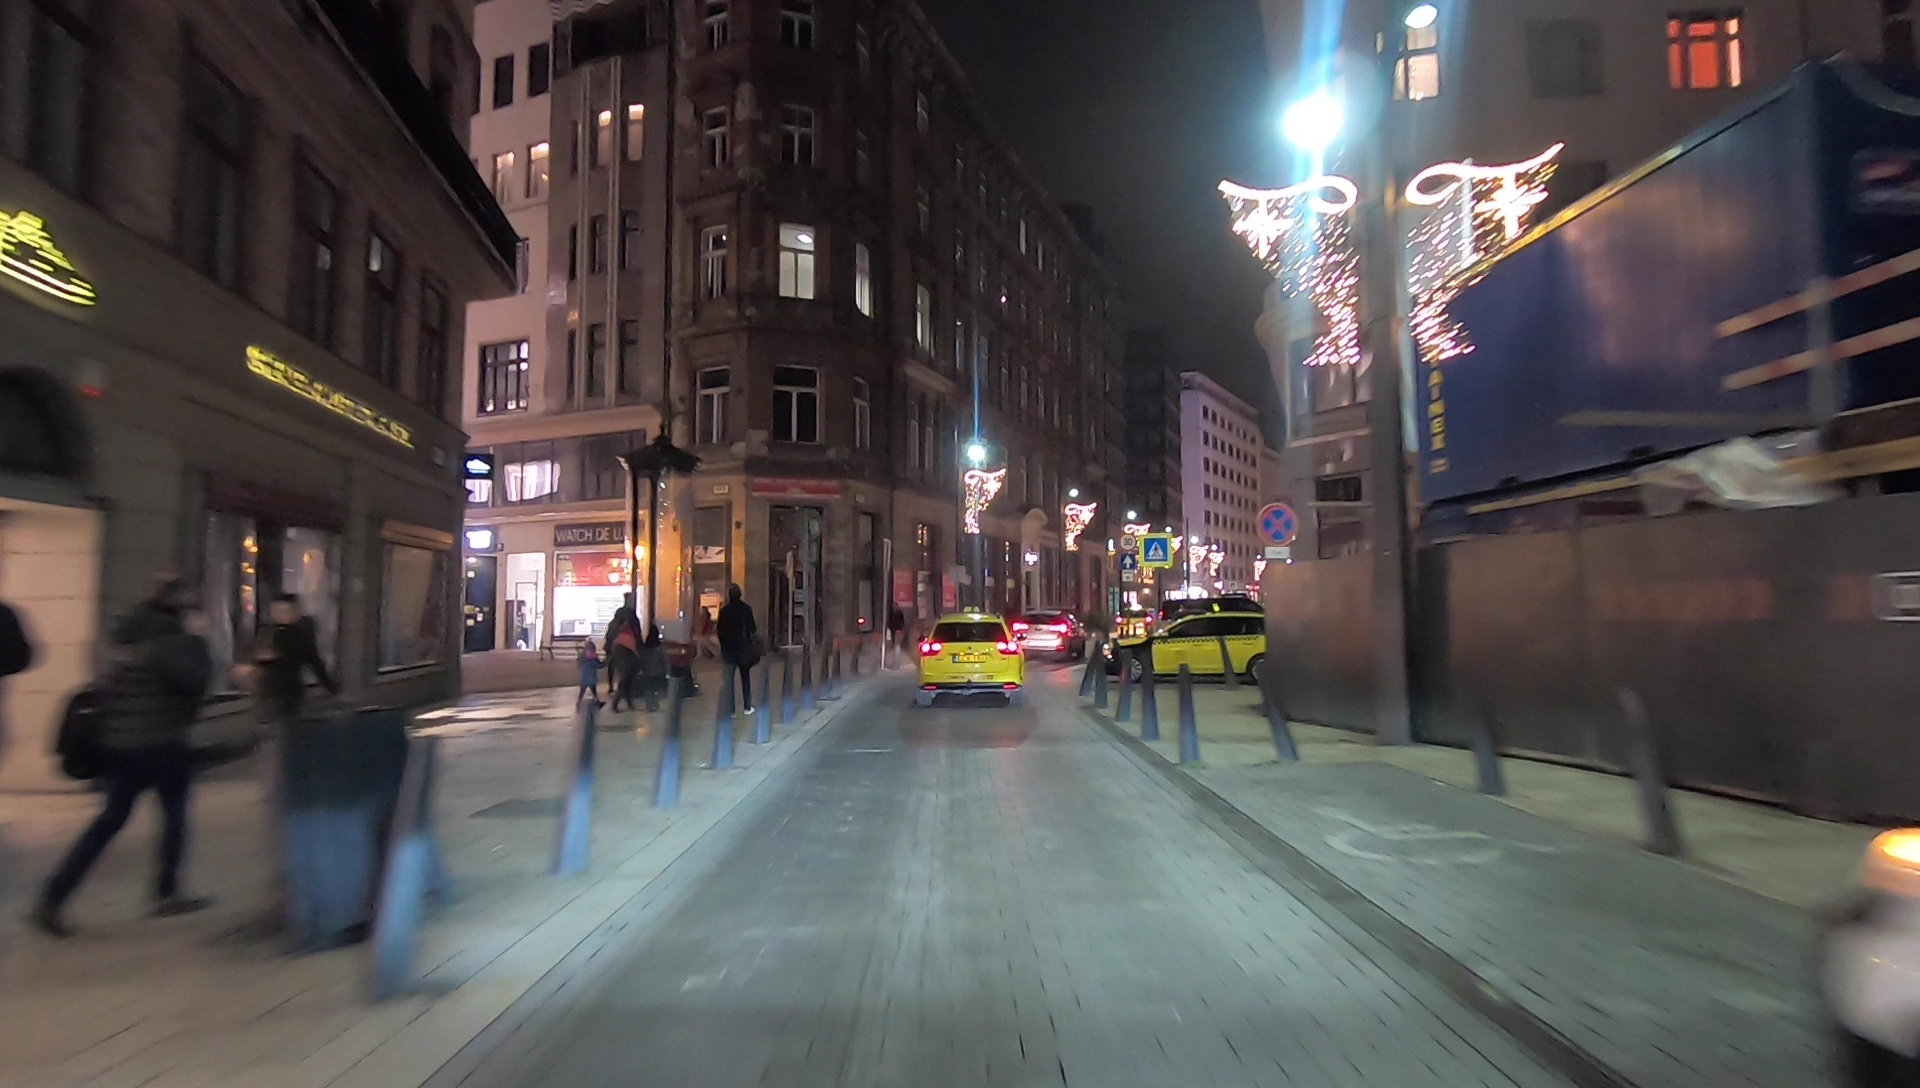person: (45, 578, 219, 924), (247, 599, 330, 797), (715, 586, 760, 713), (608, 591, 643, 723), (578, 637, 602, 706)
